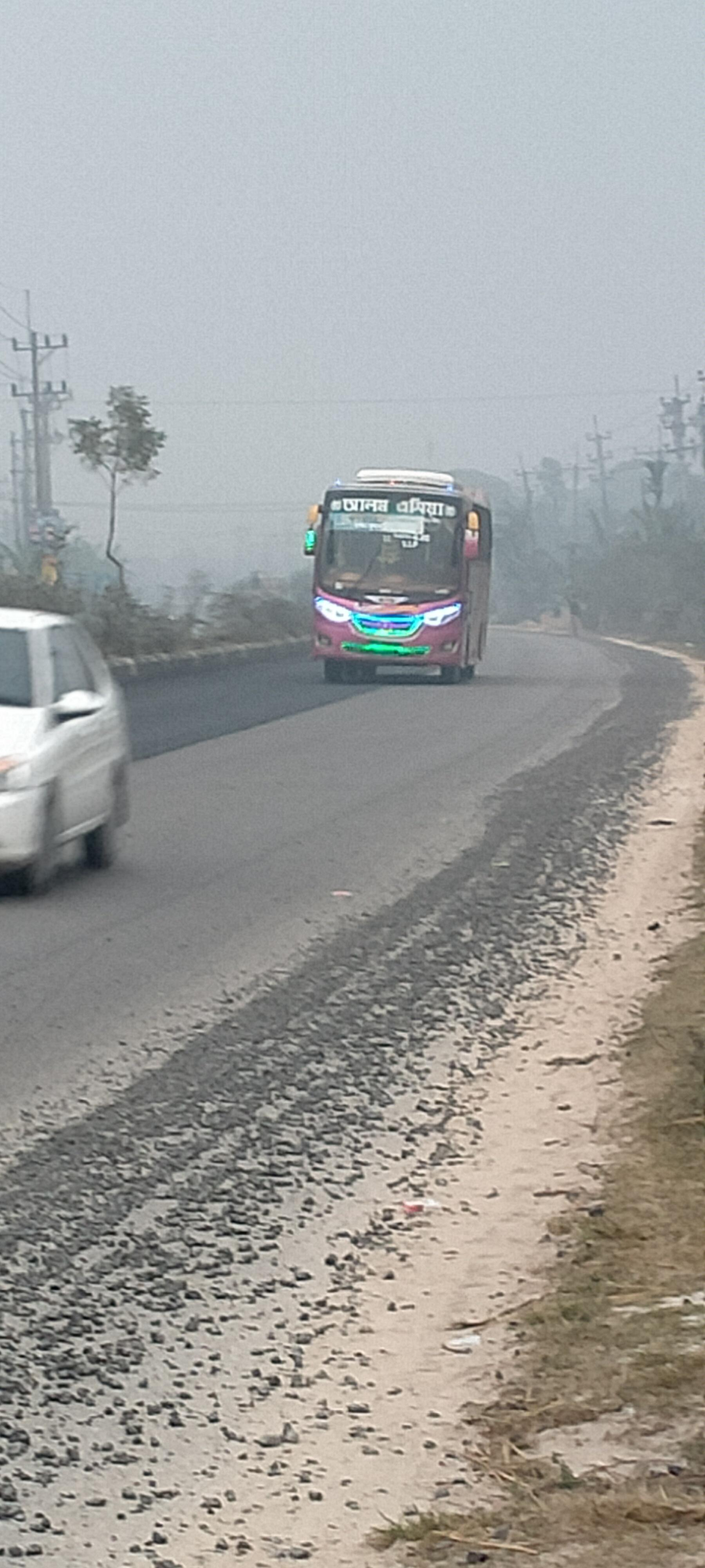Bus: (282, 457, 517, 709)
Car: (8, 578, 155, 884)
